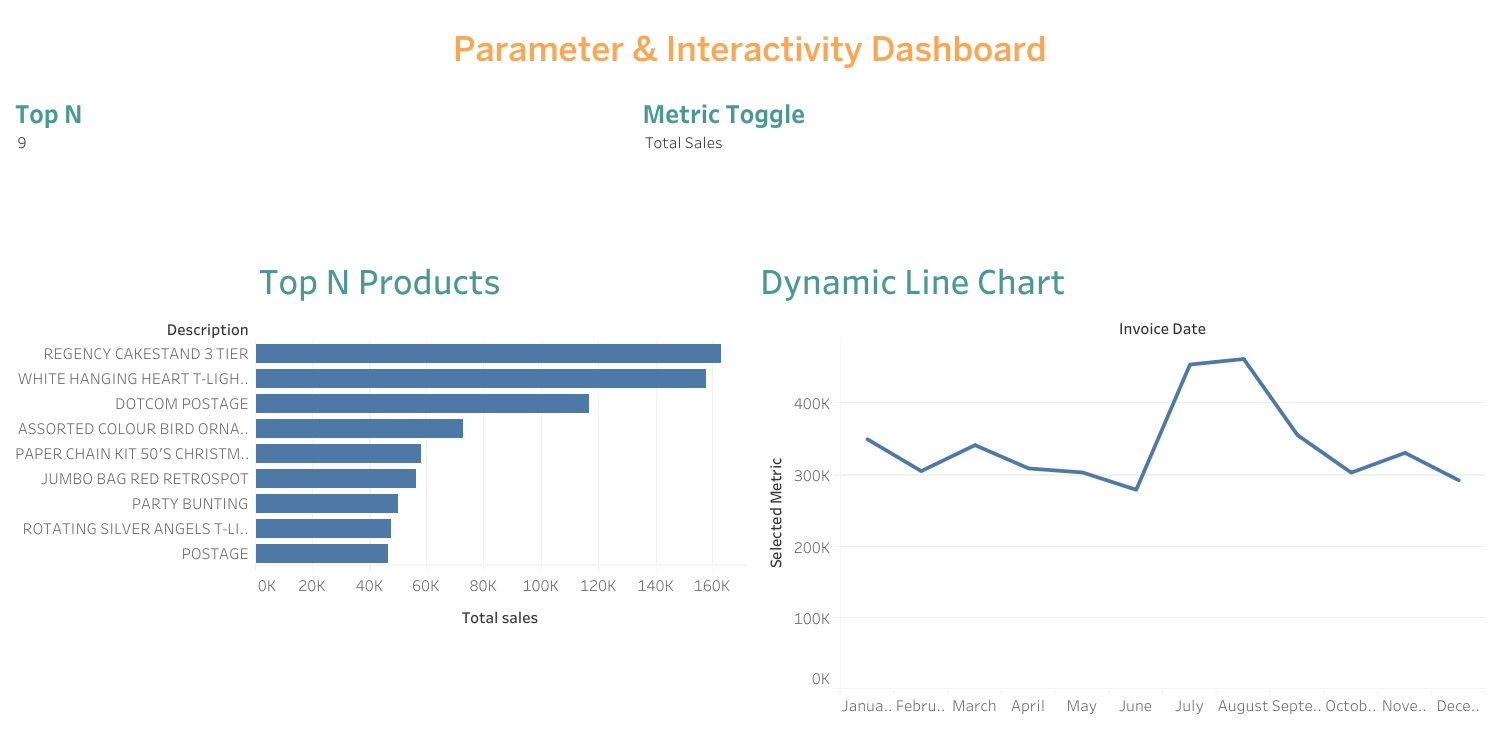

What the dashboard file says about the page in this screenshot:
{"tool":"tableau","page":{"name":"Dashboard 3","canvas":[1000,1000],"units":"permille","ordinal":2},"visuals":[{"type":"text","box":[6.7,10,986.7,108.5]},{"type":"parameter","param":"[Parameters].[Parameter 1]","box":[6.7,118.5,418.3,214.5]},{"type":"parameter","param":"[Parameters].[Parameter 2]","box":[425,118.5,541.7,214.5]},{"type":"worksheet","title":"14.Top N Products Parameter","mark":"Automatic","rows":["Description"],"cols":["Calculation_124693463261769728"],"box":[6.7,332.9,493.3,617.2]},{"type":"worksheet","title":"15.Dynamic Line Chart","mark":"Line","rows":["Calculation_124693463346229266"],"cols":["InvoiceDate"],"box":[500,332.9,493.3,657.1]}]}

Visuals, with their boxes on the dashboard's canvas, which has no fixed pixel size, in thousandths of its width and height (x1, y1, x2, y2). These are canvas units, not pixel positions in the 1499x730 screenshot, which may show the page scaled, cropped or inside an application window:
text: [left=7, top=10, right=993, bottom=118]
parameter: [left=7, top=118, right=425, bottom=333]
parameter: [left=425, top=118, right=967, bottom=333]
"14.Top N Products Parameter" worksheet: [left=7, top=333, right=500, bottom=950]
"15.Dynamic Line Chart" worksheet (Line marks): [left=500, top=333, right=993, bottom=990]
